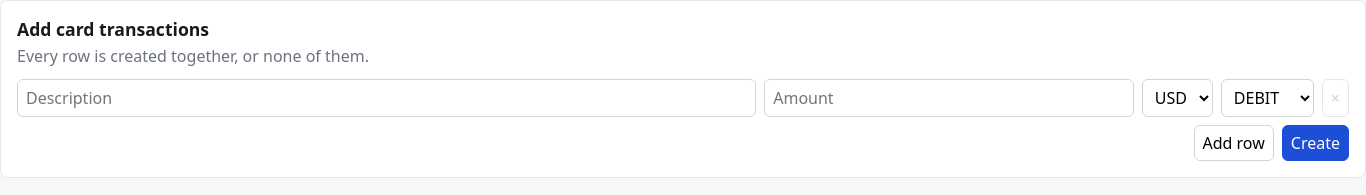
Scenario: create card transactions form (mounted) › disables the form while a request is in flight so a second click cannot start a second create
Step 1. Type "Lunch" into the field named "Description 1" → {"x": 387, "y": 98}, box [17,79,756,117]
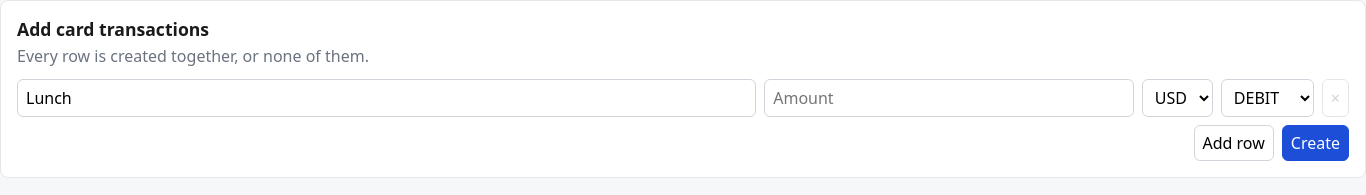
Step 2. Type "18.00" into the field named "Amount 1" → {"x": 949, "y": 98}, box [764,79,1134,117]
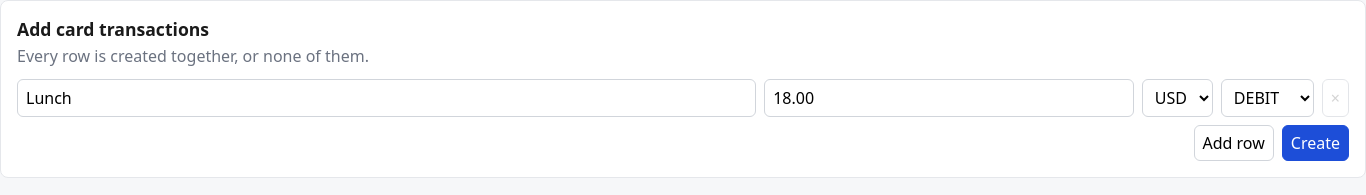
Step 3. Click the button "Create" → {"x": 1315, "y": 143}, box [1282,125,1349,161]
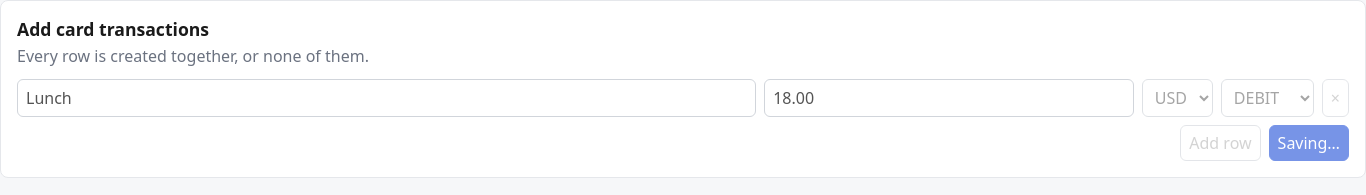
Result: the button "Saving…" is disabled
Result: the field named "Description 1" is disabled at [17,79,756,117]
Step 4. Click the button "Saving…" → {"x": 1309, "y": 143}, box [1269,125,1349,161]
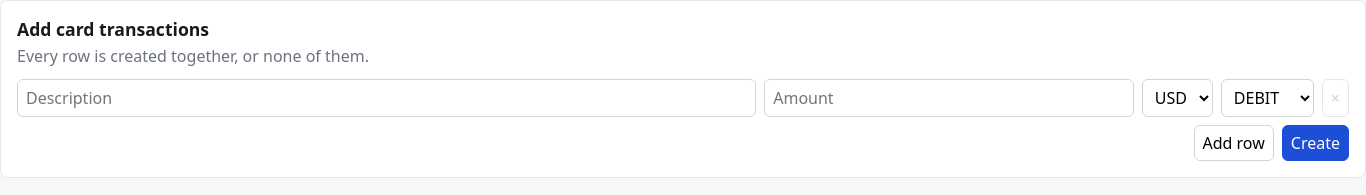
Result: the button "Create" is shown at [1282,125,1349,161]
Result: the button "Create" is enabled at [1282,125,1349,161]
